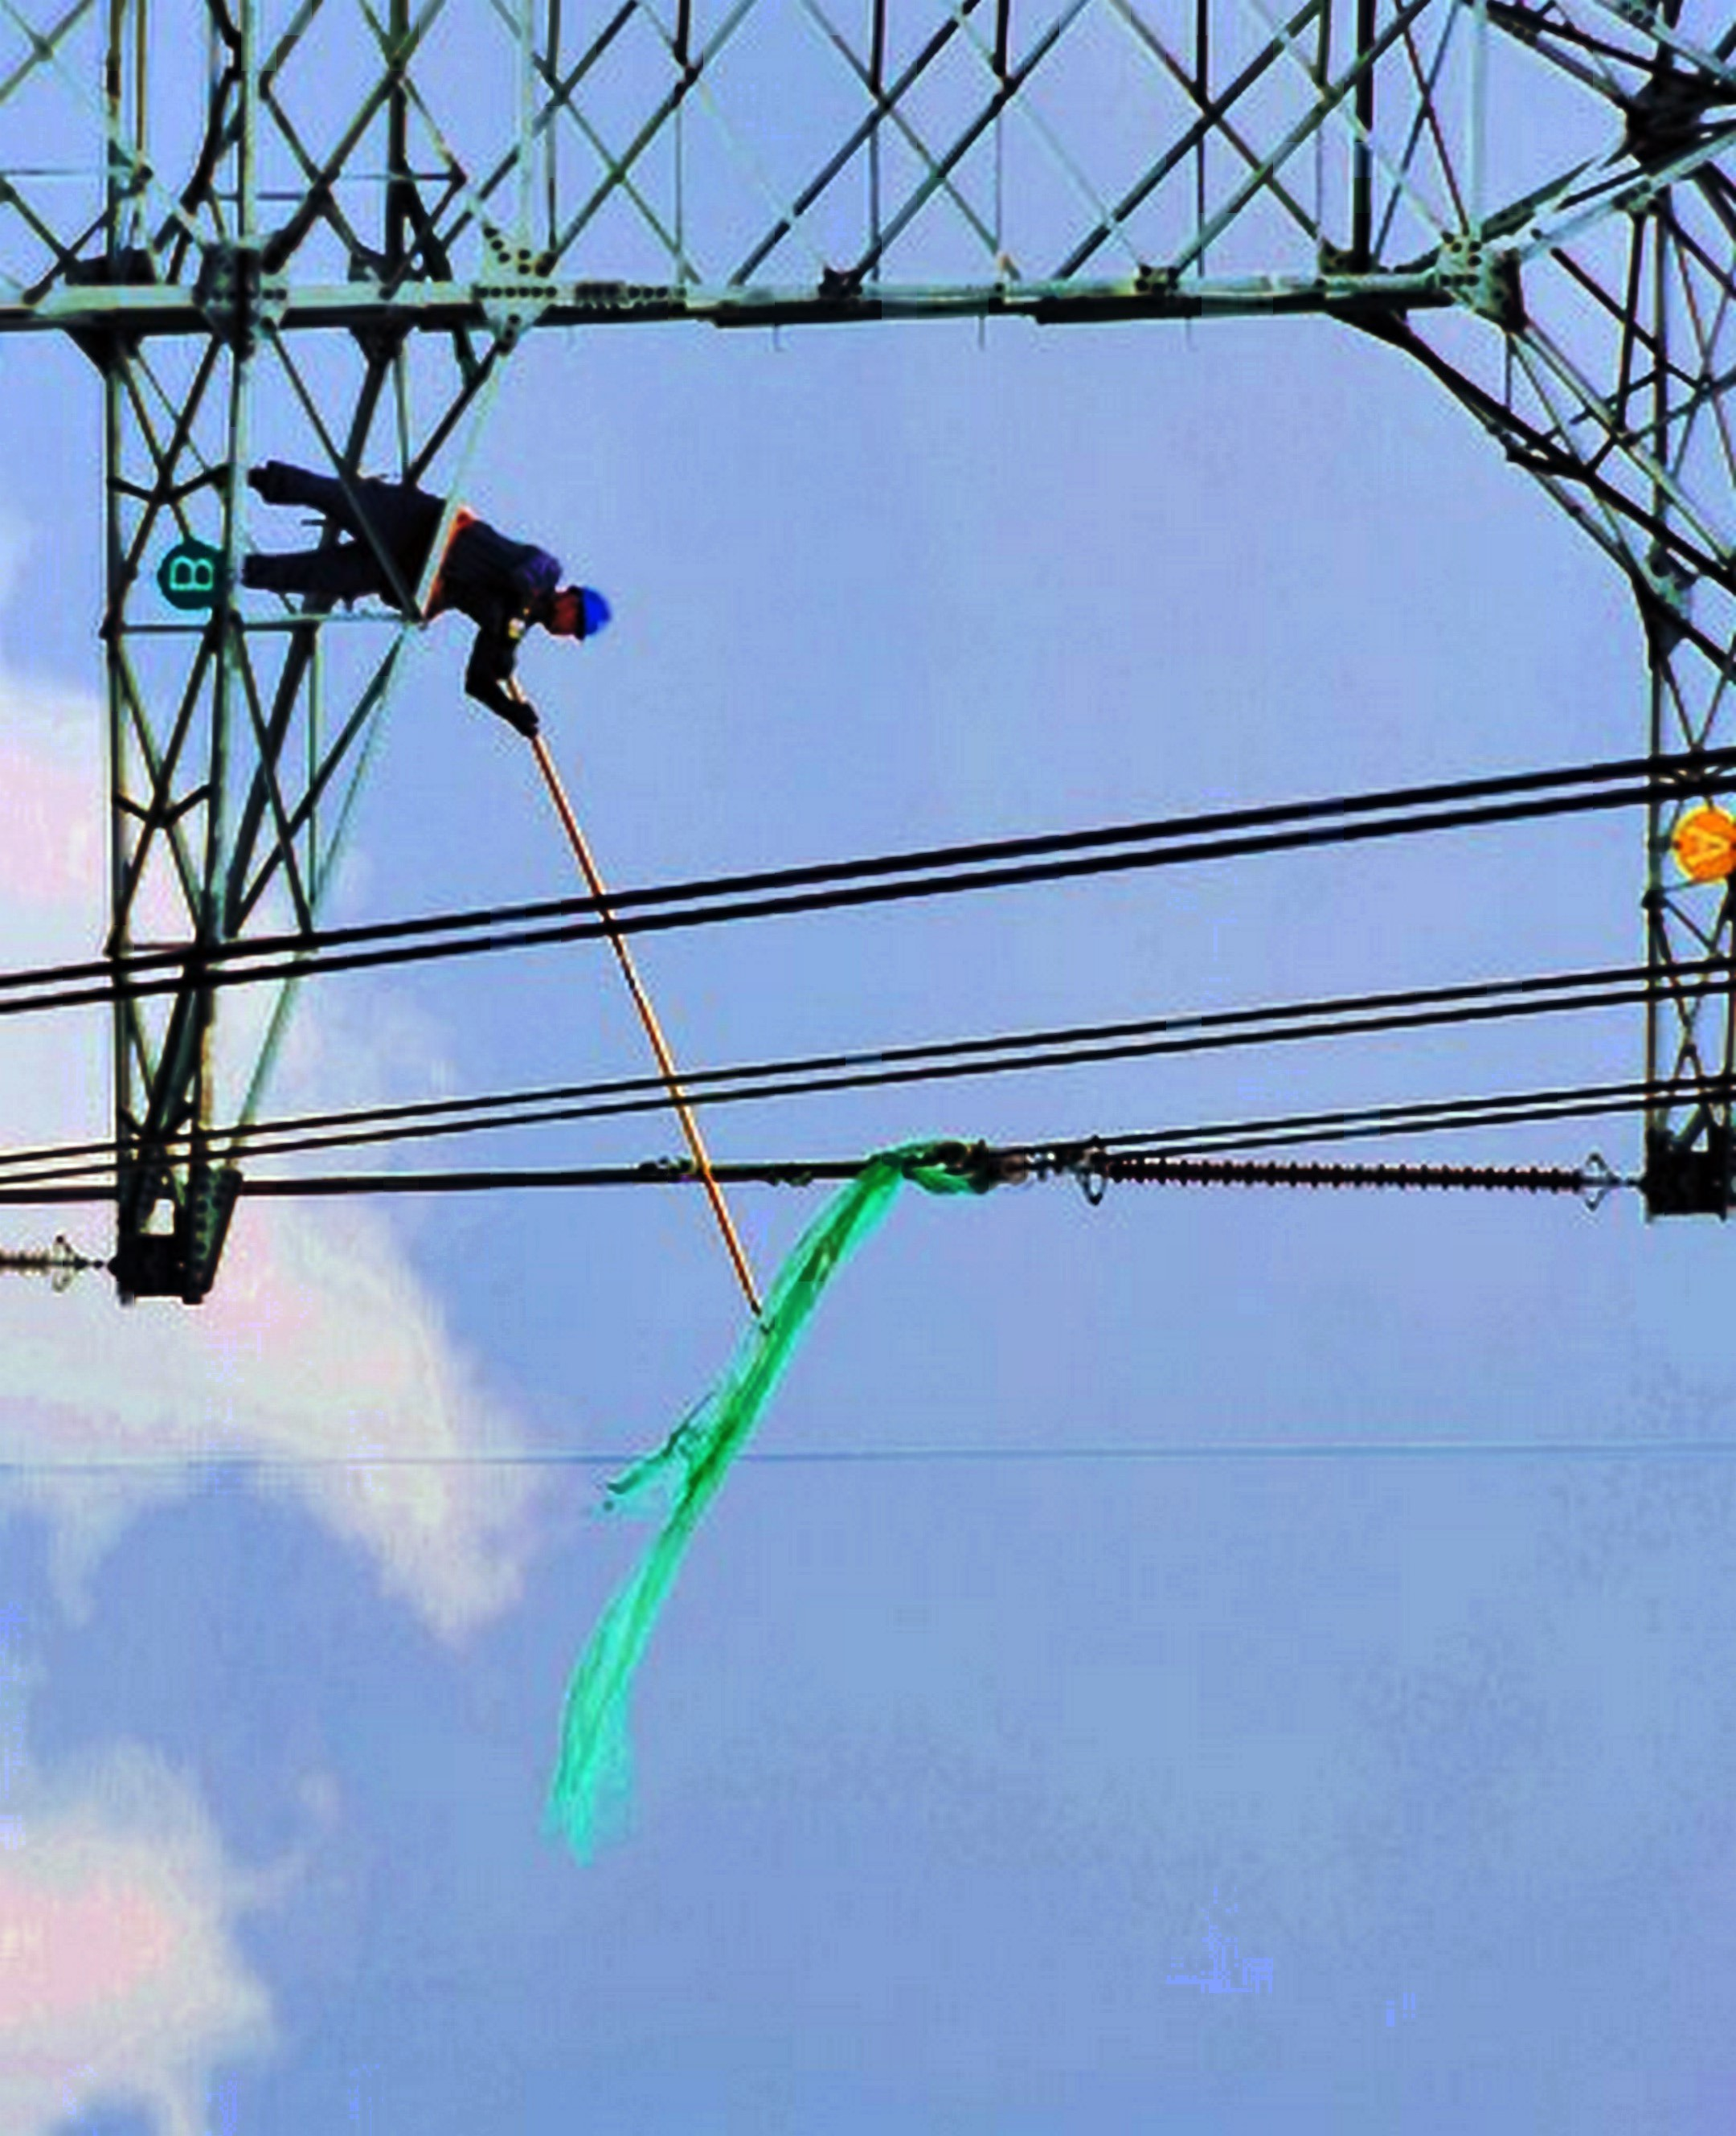wire foreign body: (524, 1107, 1031, 1858)
